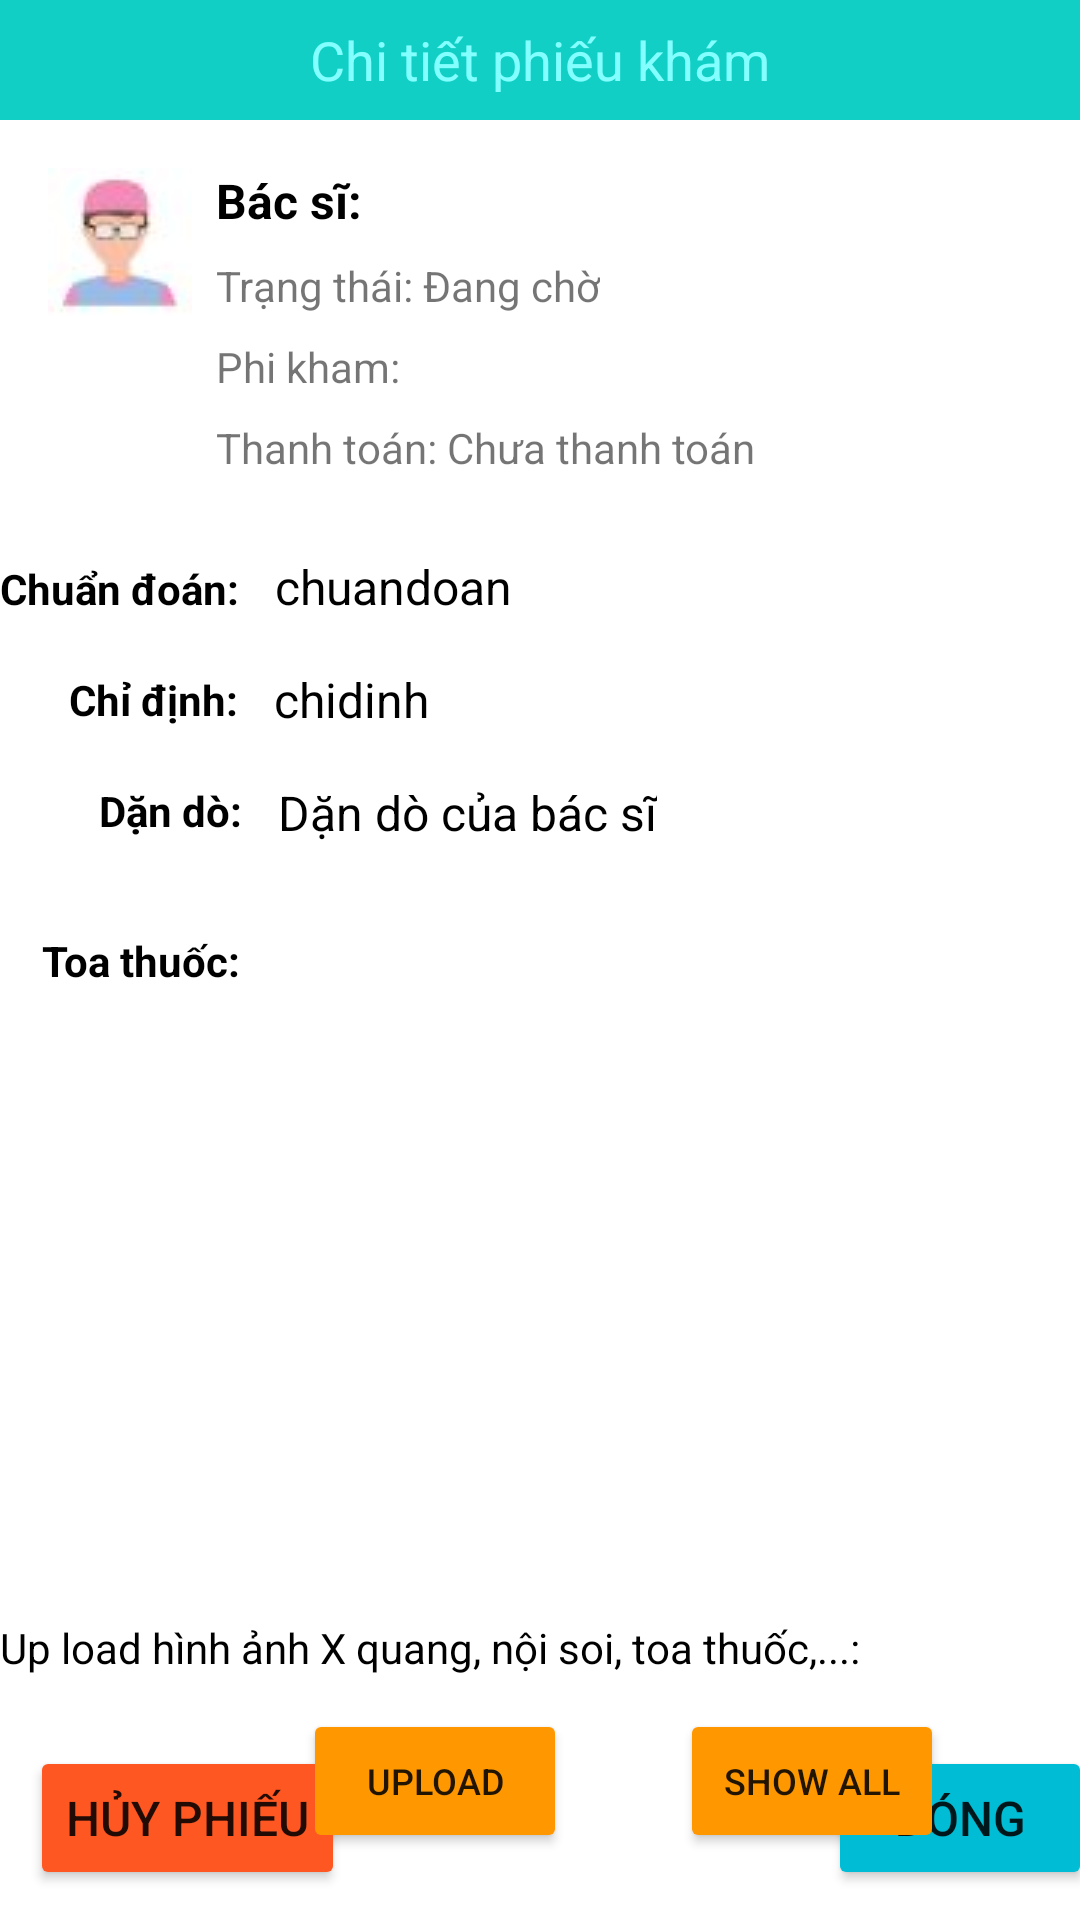

Icon click points for this 1080×1920 phone screenshot, format (x,y):
doctor: (119,243)
